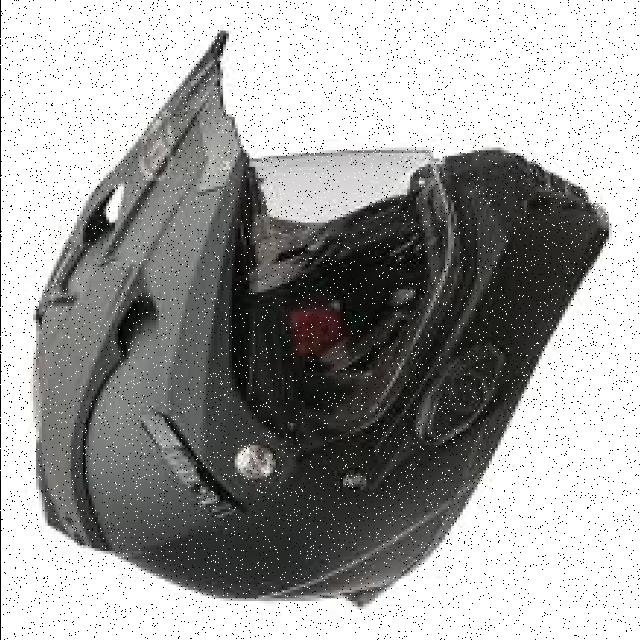Helmet: (35, 33, 606, 600)
